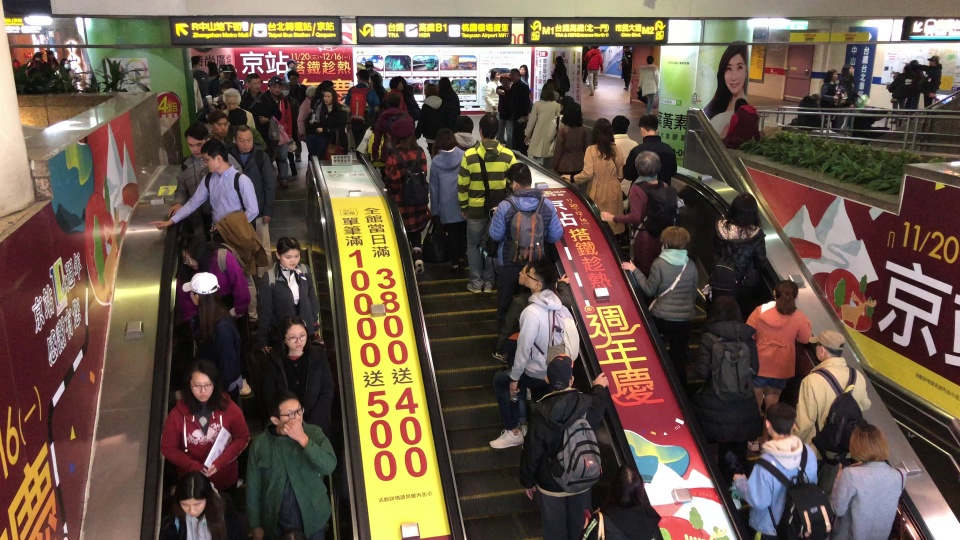person_head: (608, 463, 645, 512), (848, 423, 890, 465), (268, 389, 304, 434), (186, 357, 218, 404), (764, 400, 797, 442), (182, 270, 220, 306), (808, 328, 845, 364), (542, 353, 575, 391), (277, 314, 309, 353), (175, 233, 209, 269), (198, 136, 230, 174), (727, 191, 759, 228), (706, 293, 742, 325), (183, 121, 211, 159), (658, 224, 691, 254), (275, 234, 302, 270), (524, 262, 555, 292), (389, 115, 415, 150), (506, 161, 533, 194), (634, 150, 662, 180), (592, 116, 614, 153), (773, 279, 799, 308), (517, 260, 544, 287), (432, 125, 457, 152), (226, 107, 248, 136), (207, 109, 230, 136), (232, 124, 254, 152), (478, 113, 500, 141), (561, 101, 584, 127), (638, 113, 658, 140), (221, 87, 241, 109), (454, 114, 474, 135), (610, 115, 630, 135), (558, 94, 574, 115), (539, 82, 556, 101), (245, 72, 261, 92), (217, 62, 233, 81), (322, 88, 338, 107), (268, 74, 283, 94), (319, 79, 334, 97), (385, 93, 401, 109), (822, 68, 839, 83), (355, 68, 370, 84), (389, 76, 404, 92), (437, 76, 451, 93), (508, 68, 522, 83), (734, 98, 749, 112), (926, 54, 942, 67), (498, 72, 511, 88), (305, 85, 319, 99), (423, 83, 437, 97), (205, 61, 218, 76), (287, 69, 299, 85), (280, 79, 291, 96), (488, 68, 501, 82), (840, 63, 853, 76), (286, 58, 300, 70), (370, 71, 380, 87), (59, 57, 71, 70), (32, 51, 43, 64), (901, 63, 913, 74), (519, 64, 528, 78), (190, 55, 200, 67), (645, 54, 655, 65), (810, 91, 821, 101), (554, 54, 563, 66), (45, 49, 55, 59), (364, 60, 374, 69), (622, 44, 630, 52)
person_vbox: (166, 138, 269, 322), (477, 161, 564, 363), (488, 261, 580, 449), (519, 353, 609, 540), (733, 399, 836, 540), (244, 387, 338, 540), (174, 232, 258, 396), (790, 328, 872, 491), (694, 294, 764, 481), (159, 358, 250, 500), (745, 278, 813, 450), (620, 225, 699, 372), (599, 150, 686, 278), (459, 112, 519, 293), (497, 259, 572, 403), (256, 313, 336, 437), (827, 422, 907, 540), (167, 121, 243, 237), (258, 235, 324, 363), (181, 271, 243, 406), (700, 191, 768, 312), (381, 116, 432, 275), (559, 117, 626, 236), (227, 122, 275, 277), (422, 127, 469, 275), (577, 462, 662, 540), (158, 470, 243, 540), (622, 113, 678, 198), (239, 72, 283, 168), (262, 75, 292, 188), (370, 94, 414, 169), (524, 83, 561, 169), (344, 69, 379, 159), (550, 103, 589, 182), (312, 85, 350, 160), (415, 81, 448, 161), (282, 70, 308, 162), (610, 115, 639, 197), (837, 63, 867, 135), (170, 470, 214, 518), (903, 55, 941, 109), (721, 97, 760, 149), (509, 68, 532, 156), (280, 82, 300, 175), (886, 64, 915, 126), (227, 107, 267, 151), (546, 95, 574, 157), (305, 80, 333, 138), (496, 73, 517, 149), (220, 87, 256, 131), (636, 54, 660, 115), (436, 76, 460, 133), (820, 68, 848, 116), (794, 91, 826, 129), (296, 84, 317, 141), (366, 71, 389, 123), (189, 53, 211, 105), (452, 114, 480, 151), (483, 67, 502, 120), (382, 76, 408, 114), (53, 57, 82, 90), (584, 46, 603, 96), (22, 51, 54, 79), (207, 63, 234, 96), (551, 54, 570, 97), (618, 43, 633, 90), (281, 58, 299, 84), (43, 49, 61, 71)
